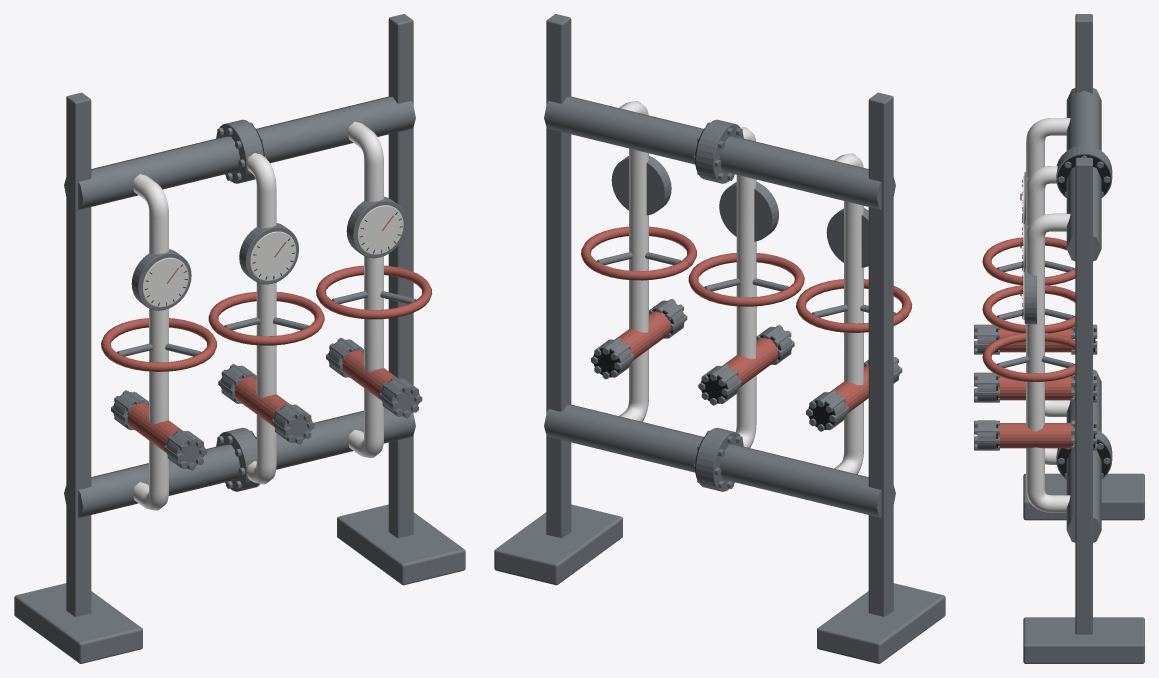
File: BN_ServiceManifold.fbx
3 views of the same model, side by side, from view 1: azimuth 30°, elevation 25°; view 2: azimuth 150°, elevation 25°; view 3: azimuth 270°, elevation 25° (orthographic). The views are drawn at different scales.
Visible parts, largest first — view 1: BN_ServiceManifold; view 2: BN_ServiceManifold; view 3: BN_ServiceManifold.
Part boxes in pixels (x1,y1,x2,y2): BN_ServiceManifold: [14, 14, 465, 663]; BN_ServiceManifold: [494, 14, 945, 663]; BN_ServiceManifold: [974, 14, 1144, 663].
Bounding box in the file's own units: 151 × 200 × 63.3.
